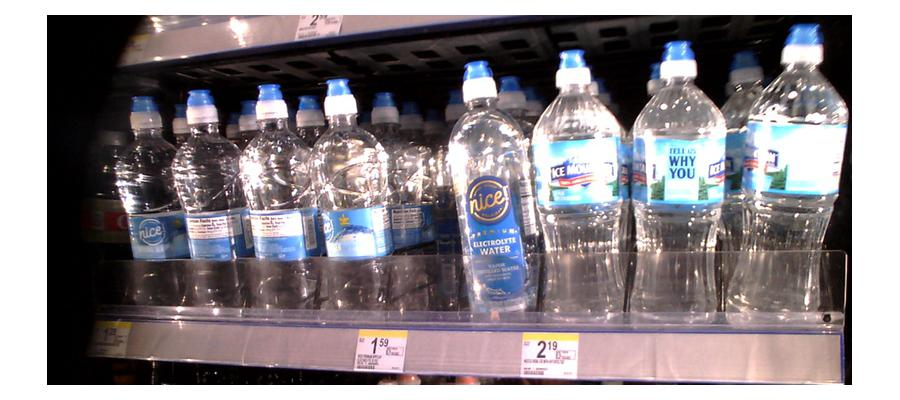bottle: (732, 22, 846, 331), (628, 42, 733, 316), (533, 50, 632, 334), (448, 70, 535, 325), (313, 88, 387, 316), (242, 96, 313, 309), (177, 96, 242, 313), (120, 97, 177, 311), (385, 137, 439, 319)
